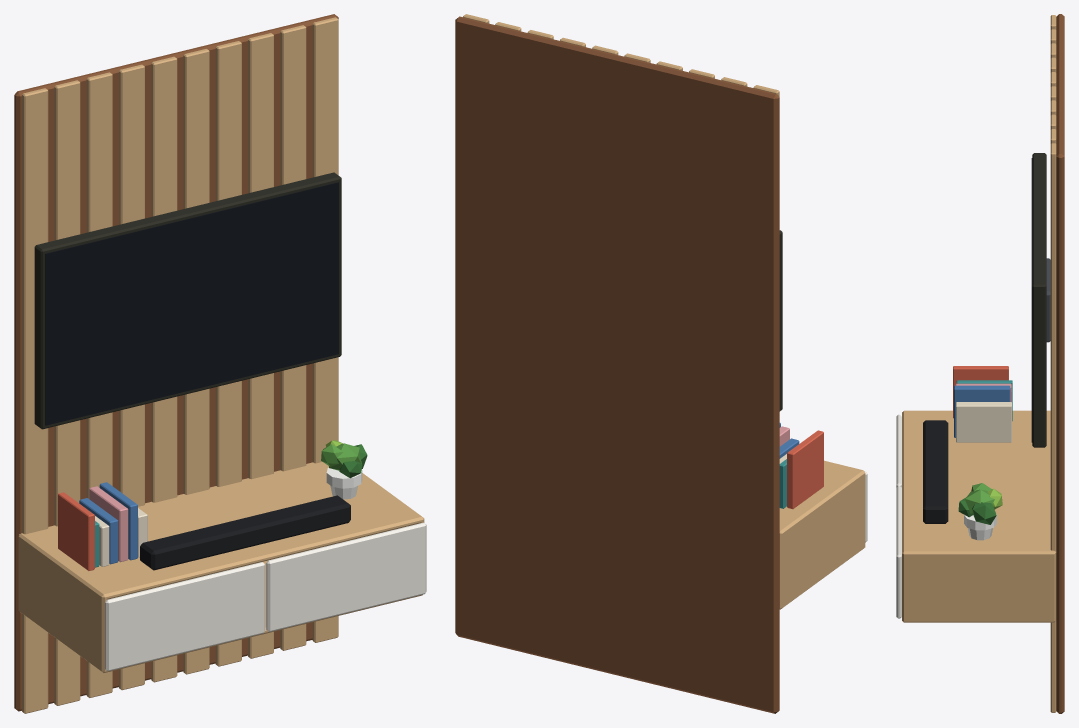
3 renders of one model, left to right at view 1: azimuth 30°, elevation 25°; view 2: azimuth 150°, elevation 25°; view 3: azimuth 270°, elevation 25°, orthographic. The views are drawn at different scales.
Parts seen in each view (by area): view 1: tv_Body; view 2: tv_Body; view 3: tv_Body.
Boxes of the visible parts, x1=… form: tv_Body: x1=14, y1=14, x2=426, y2=713; tv_Body: x1=455, y1=14, x2=867, y2=713; tv_Body: x1=896, y1=14, x2=1064, y2=713.
Bounding box in the file's own units: 1.2 × 2.2 × 0.6.
